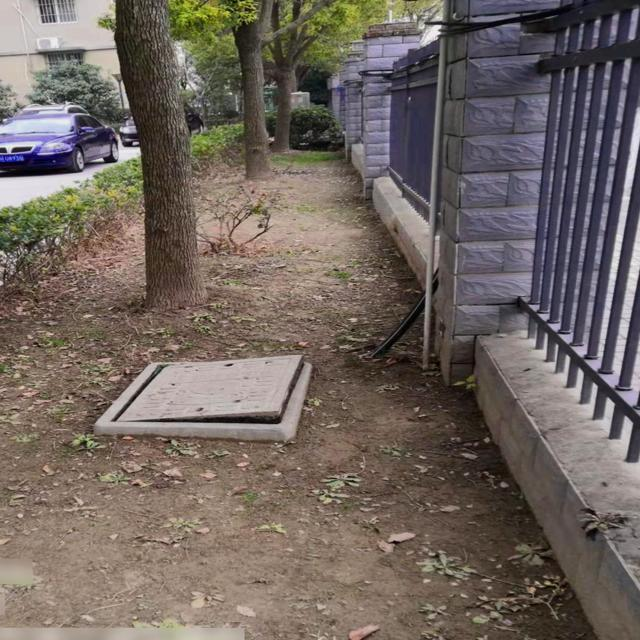uncovered: (85, 350, 312, 445)
